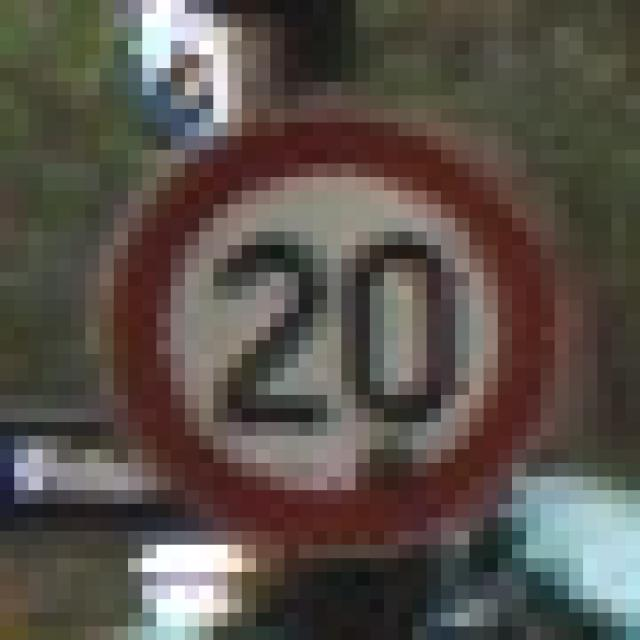Speed Limit -20-: (85, 82, 569, 572)
